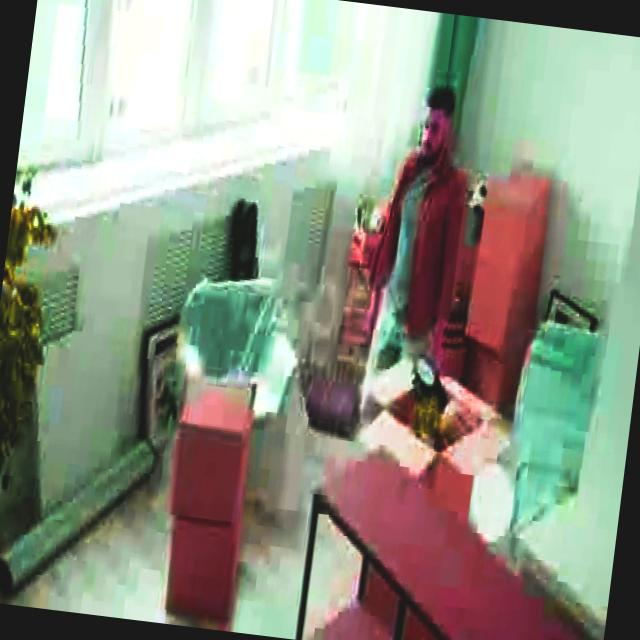Box: (164, 377, 262, 528), (161, 510, 243, 617)
